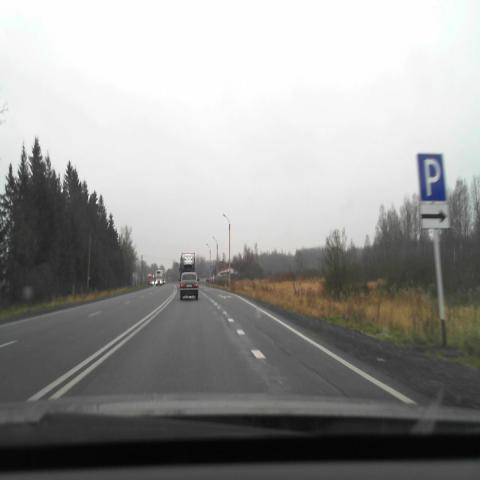8_3_1: (420, 203, 450, 229)
